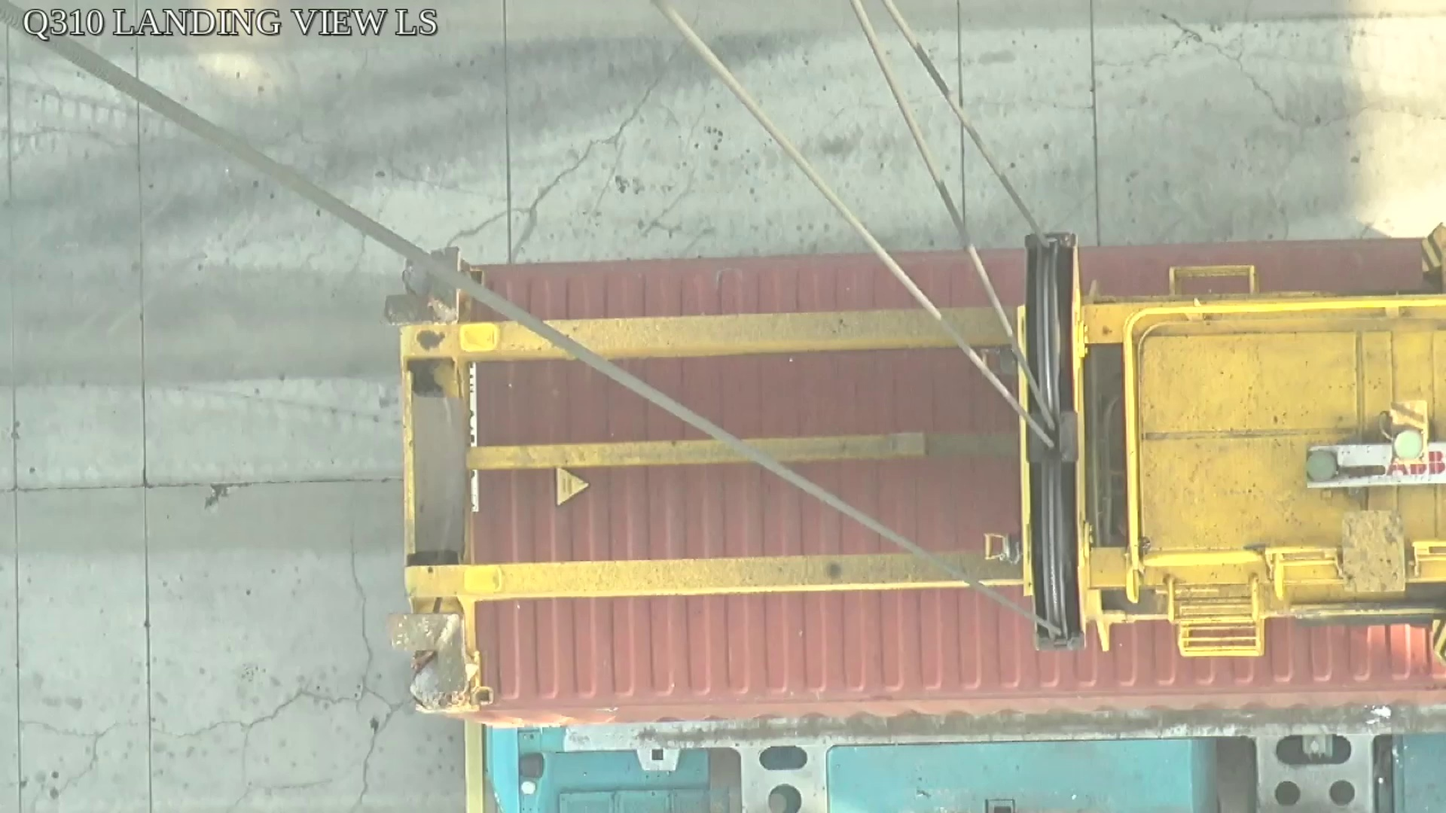aa: (1016, 236, 1092, 650)
